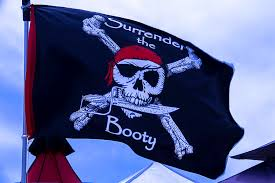Jolly Roger Flag: (24, 3, 242, 182)
